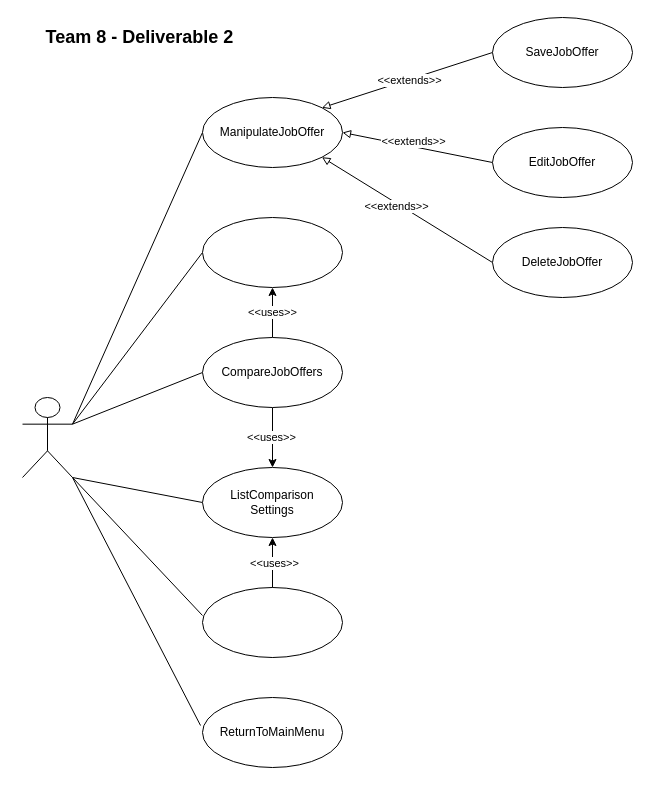
This 650x785 diagram has some shape labels left out. The centre of each missing label's shape, as x and y in pixels:
"AdjustComparison Settings" belongs at (x=272, y=622).
"Job Applicant" belongs at (x=47, y=437).
"ListJobOffers" belongs at (x=272, y=252).
